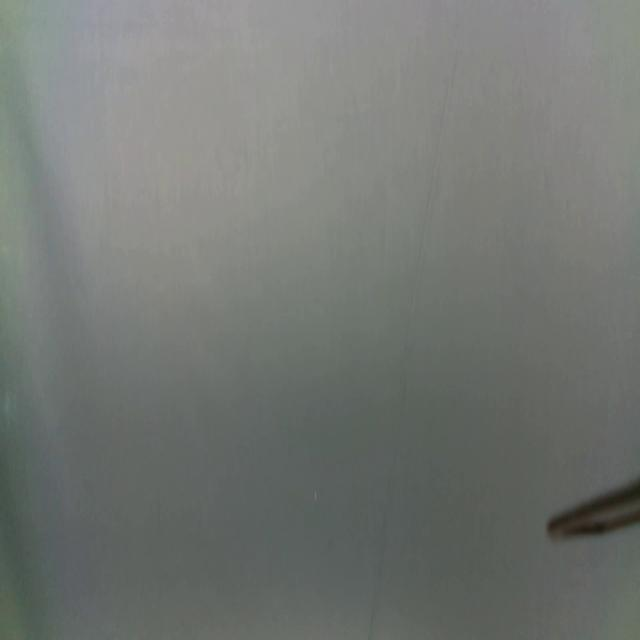crease: (366, 18, 462, 640)
